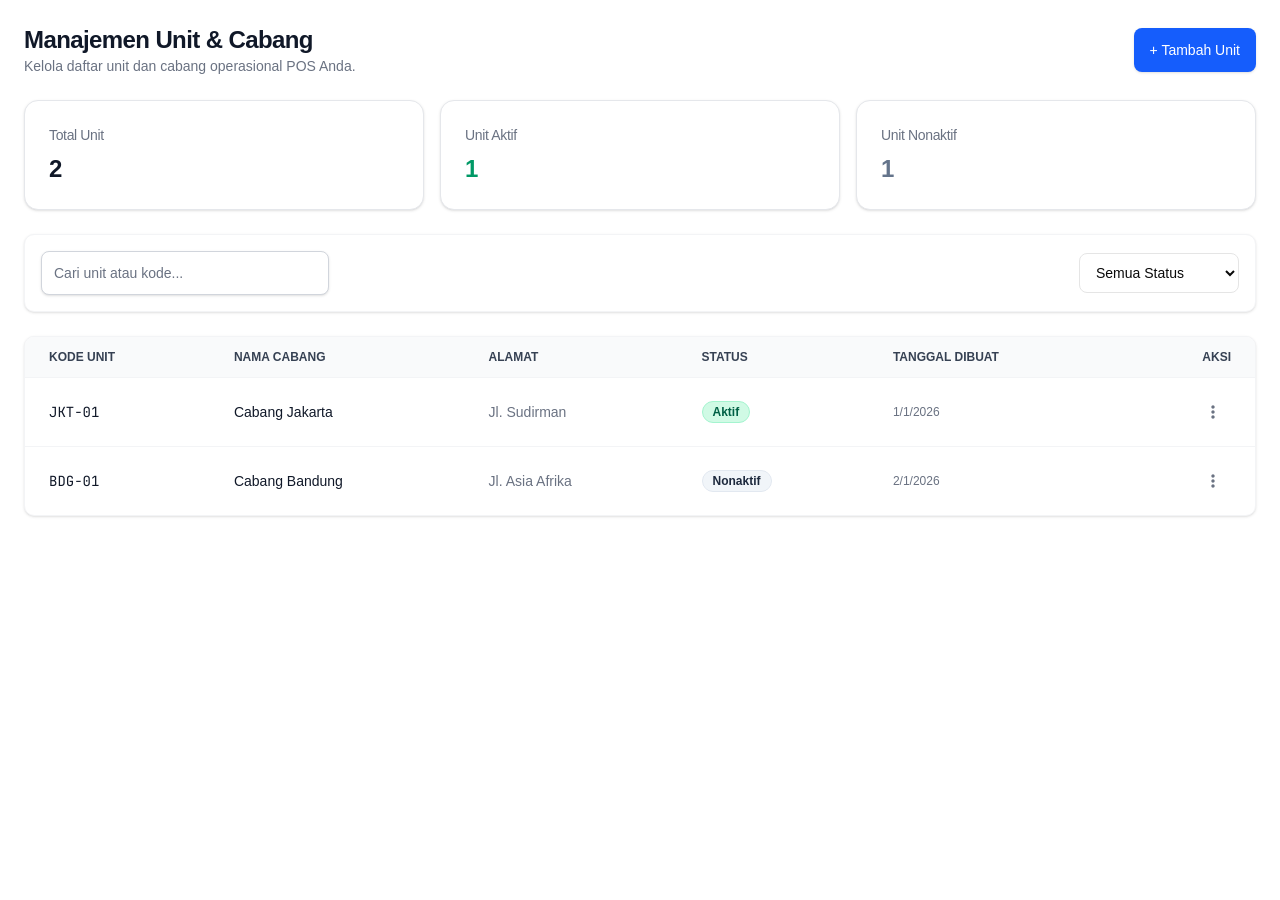
it: UnitListPage › opens create unit modal when clicking tambah unit button
The image size is (1280, 900).
Click the button "+ Tambah Unit".
click(1195, 50)  # box left=1134, top=28, right=1256, bottom=72
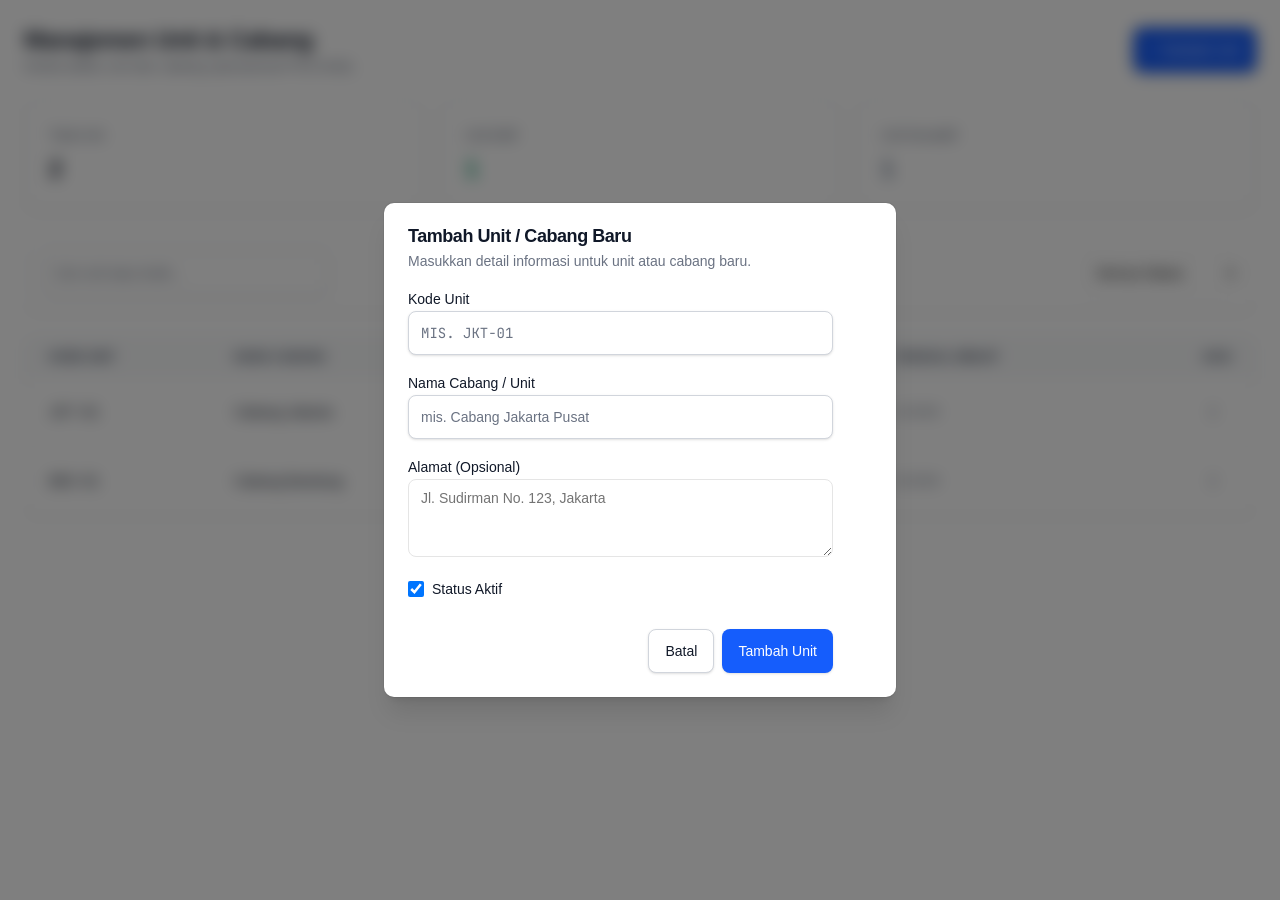
Expected: the heading "Tambah Unit / Cabang Baru" is shown, left=408, top=226, right=631, bottom=246
